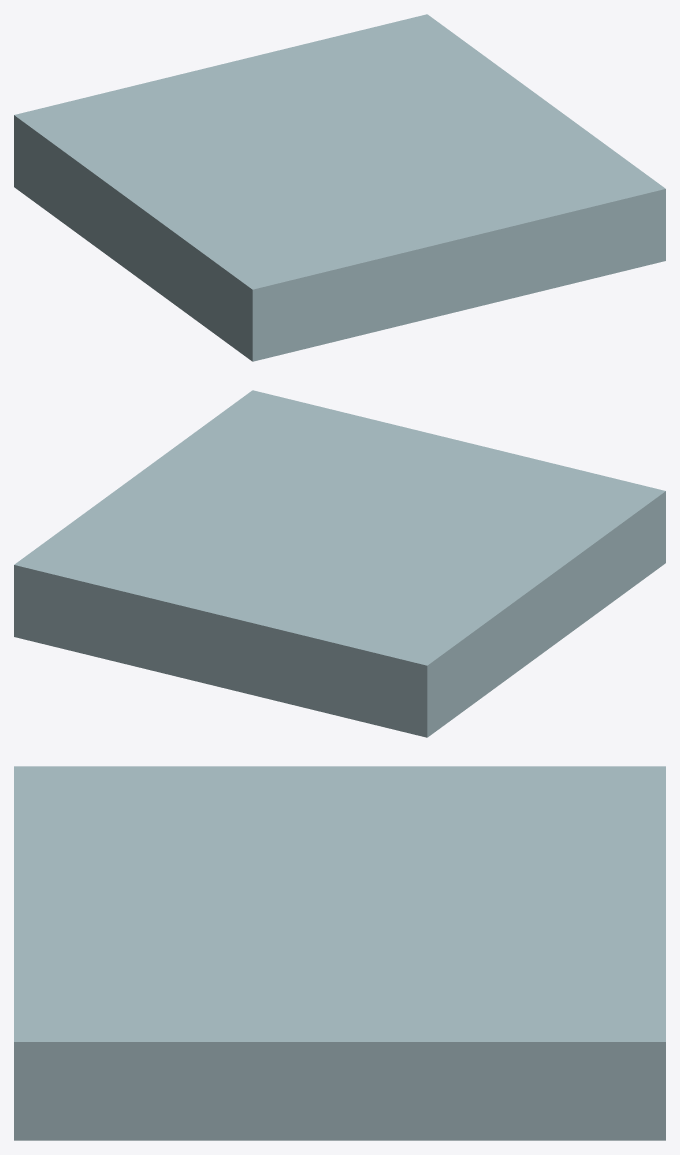
Rendered from floor.fbx.
3 renders of one model, top to bottom at view 1: azimuth 30°, elevation 25°; view 2: azimuth 150°, elevation 25°; view 3: azimuth 270°, elevation 25°, orthographic. The views are drawn at different scales.
Visible parts, largest first — view 1: Gulv; view 2: Gulv; view 3: Gulv.
Boxes of the visible parts, box(x1,y1,x2,y2) form: Gulv: box(14, 14, 665, 361); Gulv: box(14, 390, 665, 737); Gulv: box(14, 766, 665, 1140).
Size of the model in its own units: 600 by 100 by 600.
